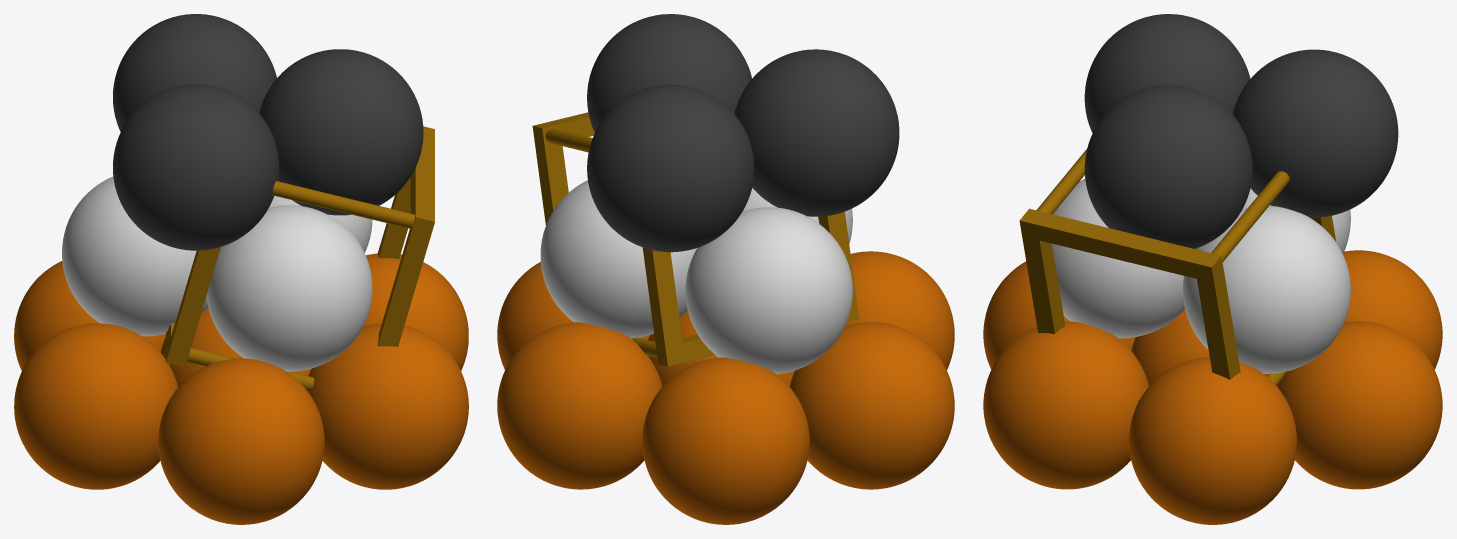
The model's file is Packing_FCP_Compressed.glb.
3 views of the same model, side by side, from view 1: azimuth 30°, elevation 25°; view 2: azimuth 150°, elevation 25°; view 3: azimuth 270°, elevation 25° (orthographic).
Visible parts, largest first — view 1: Packing_Base, Packing_Top; view 2: Packing_Base, Packing_Top; view 3: Packing_Base, Packing_Top.
Part boxes in pixels (x1,y1,x2,y2): Packing_Base: [14, 126, 468, 524]; Packing_Top: [113, 14, 423, 250]; Packing_Base: [497, 112, 954, 524]; Packing_Top: [587, 14, 899, 252]; Packing_Base: [983, 148, 1442, 524]; Packing_Top: [1084, 14, 1398, 248].
Bounding box in the file's own units: 1.2 × 1.03 × 1.09.
